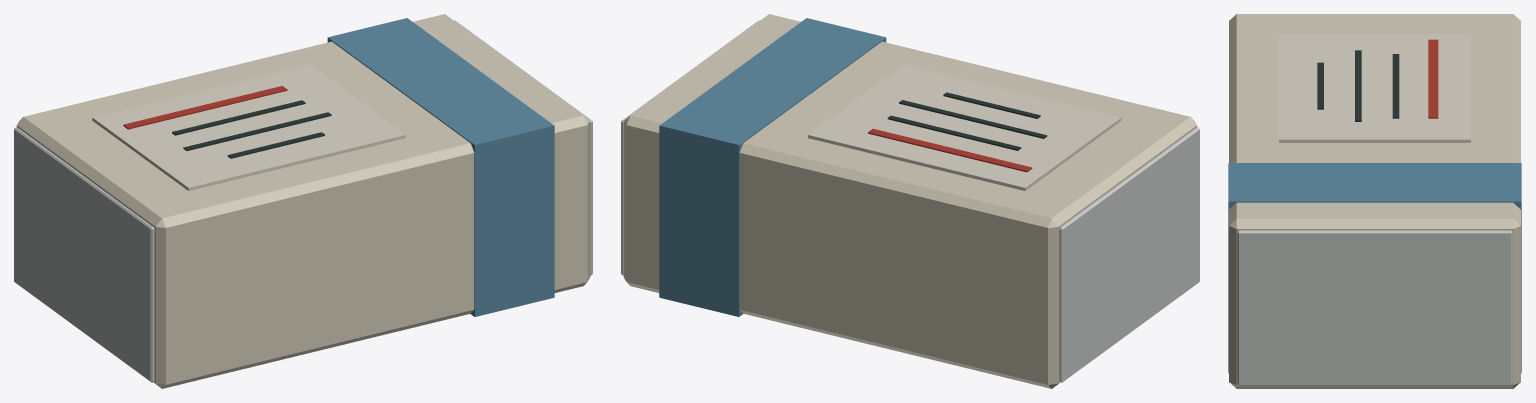
Rendered from medication-box.glb.
3 views of the same model, side by side, from view 1: azimuth 30°, elevation 25°; view 2: azimuth 150°, elevation 25°; view 3: azimuth 270°, elevation 25° (orthographic).
Parts seen in each view (by area): view 1: medication-box; view 2: medication-box; view 3: medication-box.
Part boxes in pixels (x1=…): medication-box: x1=14, y1=14, x2=592, y2=388; medication-box: x1=621, y1=14, x2=1199, y2=388; medication-box: x1=1228, y1=14, x2=1521, y2=388.
Bounding box in the file's own units: 0.1222 × 0.0463 × 0.0704.
